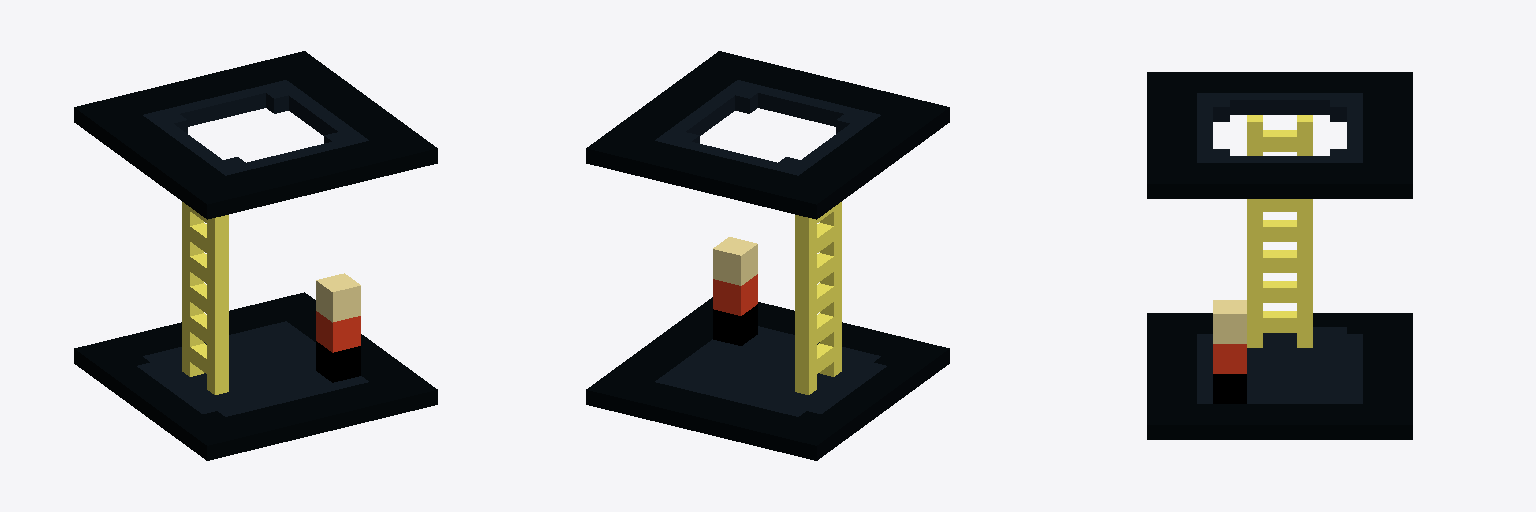
3 views of the same model, side by side, from view 1: azimuth 30°, elevation 25°; view 2: azimuth 150°, elevation 25°; view 3: azimuth 270°, elevation 25° (orthographic).
Visible parts, largest first — view 1: Cuboid; view 2: Cuboid; view 3: Cuboid.
Boxes of the visible parts, x1,y1,x2,y2 form: Cuboid: [74, 51, 437, 460]; Cuboid: [586, 51, 949, 460]; Cuboid: [1147, 72, 1412, 439].
Bounding box in the file's own units: 16 × 17 × 16.
1 materials, 1 textured.